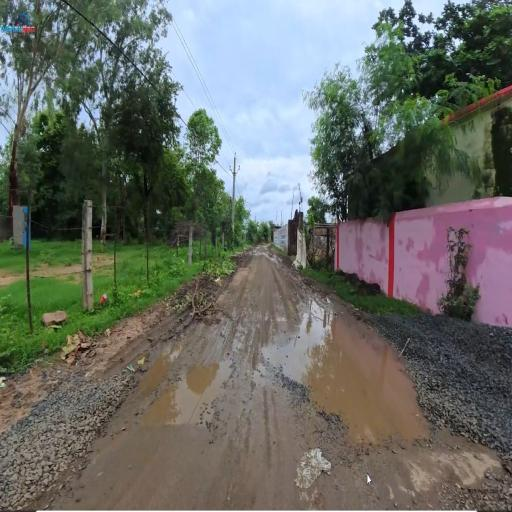pothole: (218, 337, 242, 404)
